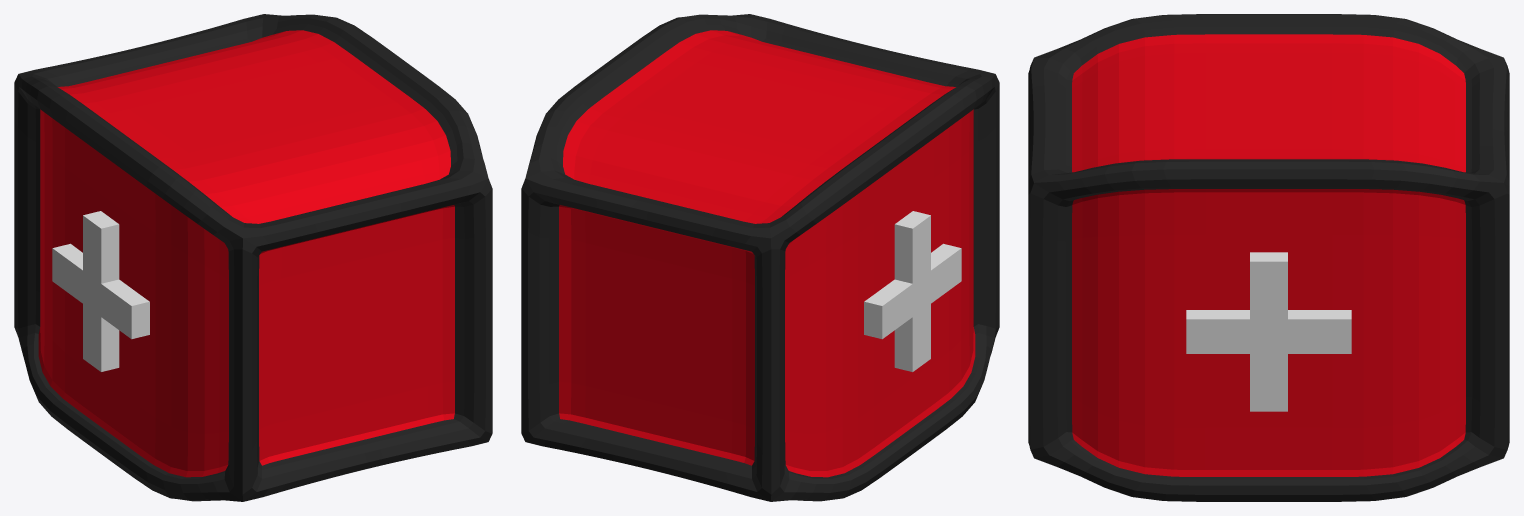
File: Medkit.fbx
3 views of the same model, side by side, from view 1: azimuth 30°, elevation 25°; view 2: azimuth 150°, elevation 25°; view 3: azimuth 270°, elevation 25° (orthographic). The views are drawn at different scales.
Visible parts, largest first — view 1: Kit; view 2: Kit; view 3: Kit.
Boxes of the visible parts, box(x1,y1,x2,y2) form: Kit: box(14, 14, 492, 501); Kit: box(521, 14, 999, 501); Kit: box(1028, 14, 1509, 501).
Size of the model in its own units: 86.76 by 83.43 by 107.
